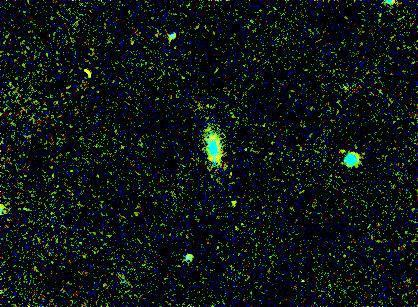star: (217, 186, 247, 216)
